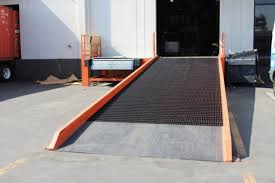Yard Ramp: (49, 55, 234, 165)
